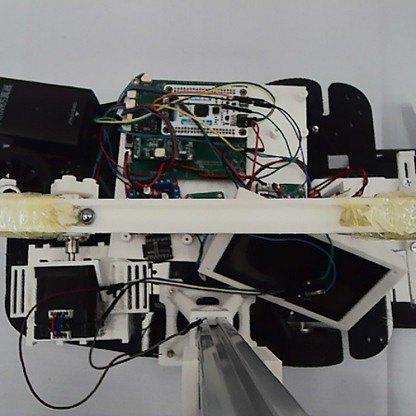ironball: (77, 204, 96, 225)
